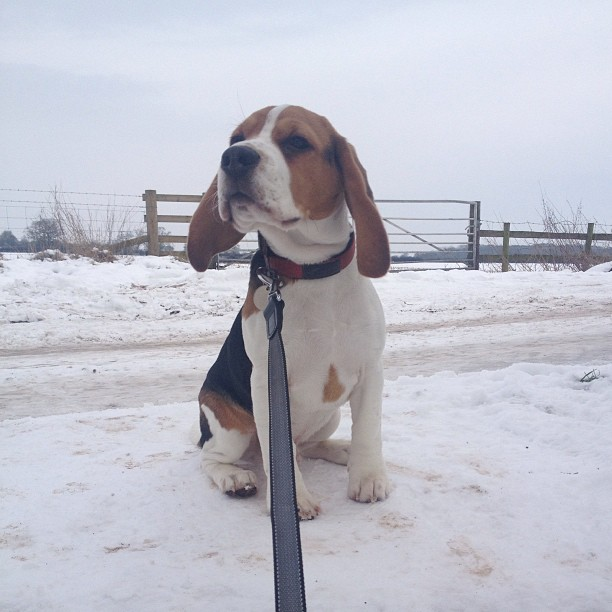animal: (190, 94, 402, 512)
sky: (1, 1, 592, 200)
